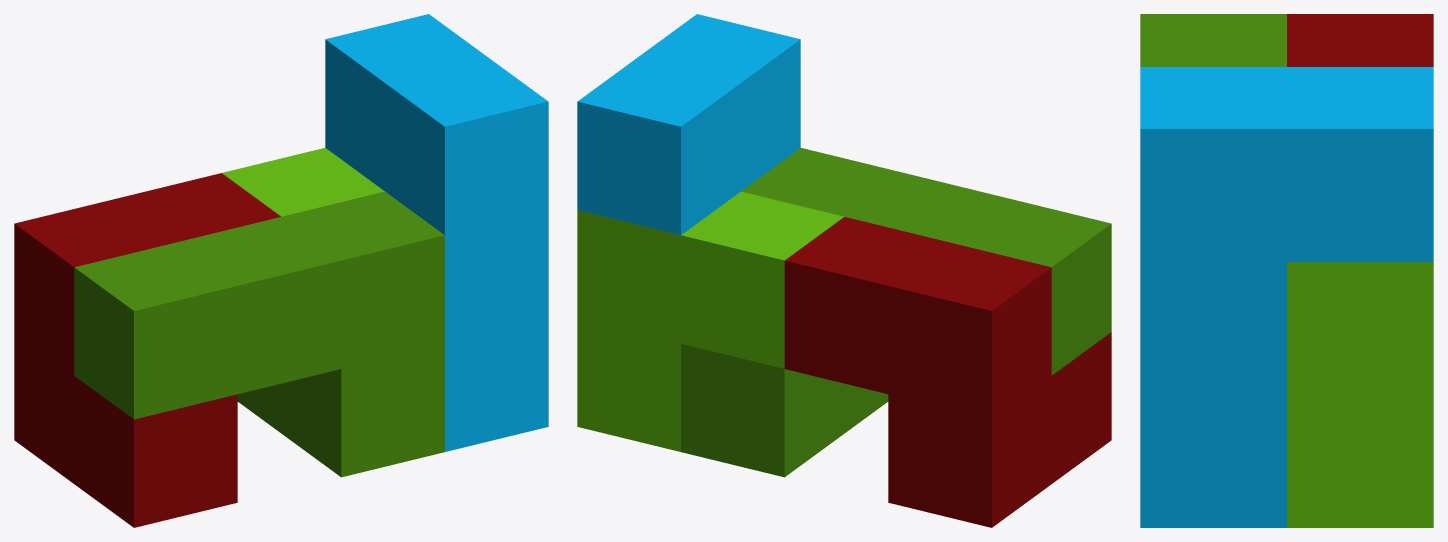
3 views of the same model, side by side, from view 1: azimuth 30°, elevation 25°; view 2: azimuth 150°, elevation 25°; view 3: azimuth 270°, elevation 25° (orthographic). The views are drawn at different scales.
Parts seen in each view (by area): view 1: mergedBlocks(Clone); view 2: mergedBlocks(Clone); view 3: mergedBlocks(Clone).
Part boxes in pixels (x1,y1,x2,y2): mergedBlocks(Clone): (14,14,548,527); mergedBlocks(Clone): (577,14,1111,527); mergedBlocks(Clone): (1140,14,1433,527).
Size of the model in its own units: 4 by 3 by 2.
4 materials, 4 textured.
